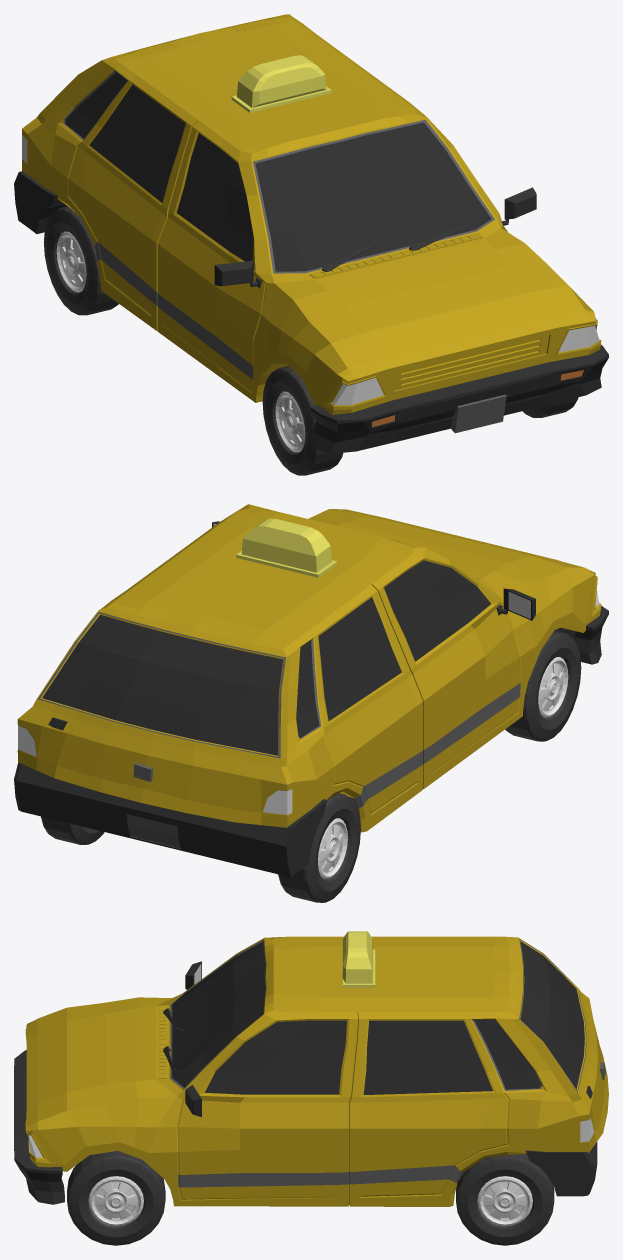
The model's file is taxi.fbx.
The picture shows the model from 3 angles, top to bottom: view 1: azimuth 30°, elevation 25°; view 2: azimuth 150°, elevation 25°; view 3: azimuth 270°, elevation 25°; orthographic projection. The views are drawn at different scales.
Visible parts, largest first — view 1: car-body.035, car-body.034, tYRE.008, Cube.011, Front ac grill.008, Cube.010, Mirror.008, Plate.008, Wiperbase.008; view 2: car-body.035, Cube.010, tYRE.008, Cube.011, car-body.034, Mirror.008; view 3: car-body.035, tYRE.008, car-body.034, Cube.010, Cube.011, Mirror.008, Wiperbase.008.
Boxes of the visible parts, x1,y1,x2,y2 form: car-body.035: (22, 14, 601, 414); car-body.034: (309, 344, 608, 453); tYRE.008: (44, 206, 578, 475); Cube.011: (231, 55, 331, 112); Front ac grill.008: (393, 335, 549, 390); Cube.010: (14, 171, 66, 233); Mirror.008: (214, 187, 536, 288); Plate.008: (450, 394, 506, 433); Wiperbase.008: (309, 233, 481, 278); car-body.035: (17, 504, 601, 832); Cube.010: (14, 762, 326, 877); tYRE.008: (41, 630, 581, 902); Cube.011: (236, 518, 337, 577); car-body.034: (554, 605, 608, 664); Mirror.008: (212, 521, 535, 620); car-body.035: (25, 936, 608, 1206); tYRE.008: (67, 1150, 554, 1245); car-body.034: (14, 1050, 64, 1204); Cube.010: (525, 1142, 597, 1196); Cube.011: (342, 931, 375, 987); Mirror.008: (185, 961, 201, 1116); Wiperbase.008: (158, 1005, 167, 1078).
Bounding box in the file's own units: 169 × 142 × 309.
